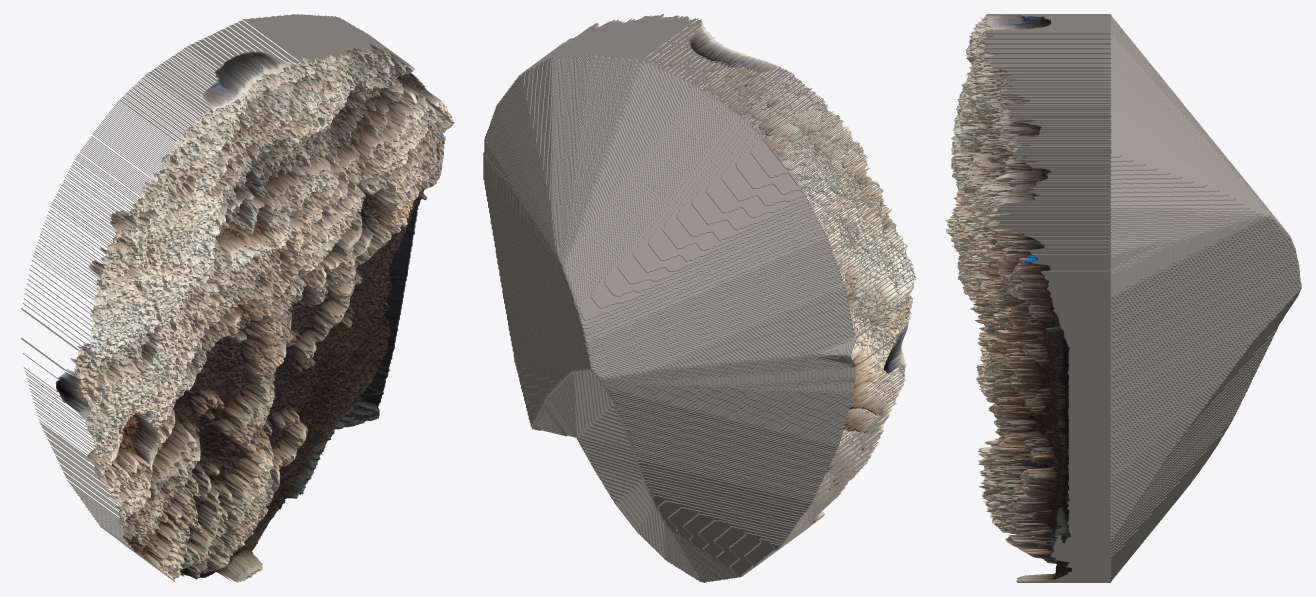
File: pale_interactive_relief.glb
3 renders of one model, left to right at view 1: azimuth 30°, elevation 25°; view 2: azimuth 150°, elevation 25°; view 3: azimuth 270°, elevation 25°, orthographic. The views are drawn at different scales.
Visible parts, largest first — view 1: pale_front_photo_relief, pale_sidewalls; view 2: pale_back_synthetic, pale_front_photo_relief, pale_sidewalls; view 3: pale_back_synthetic, pale_sidewalls, pale_front_photo_relief.
Part boxes in pixels (x1,y1,x2,y2): pale_front_photo_relief: (55,43,454,582); pale_sidewalls: (21,14,452,582); pale_back_synthetic: (483,54,856,582); pale_front_photo_relief: (566,15,916,544); pale_sidewalls: (483,14,915,582); pale_back_synthetic: (1110,14,1301,581); pale_sidewalls: (980,14,1110,582); pale_front_photo_relief: (946,15,1071,582).
Size of the model in its own units: 0.7615 by 0.9904 by 0.5527.
Materials: 1 (1 with a texture image).
